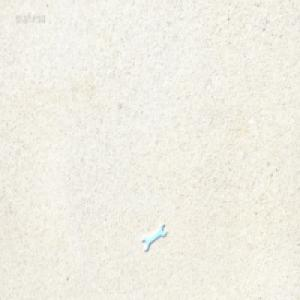Wrench: (142, 223, 166, 252)
